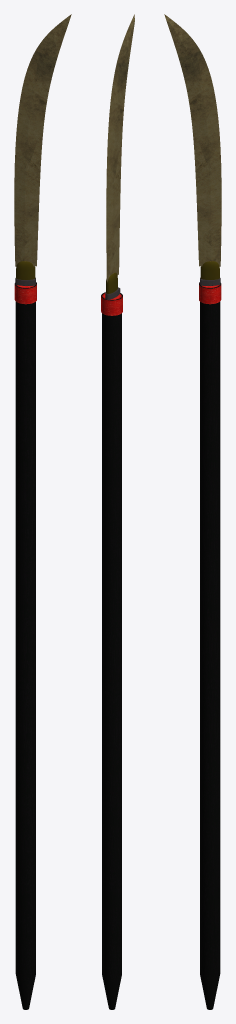
The model's file is ScrapIronSpear.glb.
The picture shows the model from 3 angles, left to right: view 1: azimuth 90°, elevation 25°; view 2: azimuth 150°, elevation 25°; view 3: azimuth 270°, elevation 25°; orthographic projection.
Visible parts, largest first — view 1: spearsword3; view 2: spearsword3; view 3: spearsword3.
Boxes of the visible parts, x1,y1,x2,y2 form: spearsword3: (14,14,71,1009); spearsword3: (101,14,134,1009); spearsword3: (164,14,221,1009).
Bounding box in the file's own units: 0.0416 × 2.03 × 0.1064.
1 material, 1 textured.
